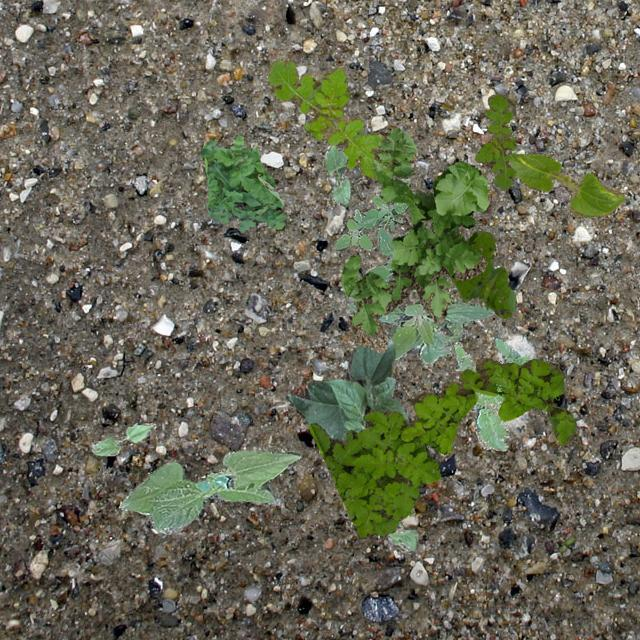crop: (118, 448, 298, 534), (286, 338, 411, 442), (348, 294, 494, 364), (508, 152, 624, 216), (90, 422, 154, 454), (324, 144, 348, 206), (386, 520, 416, 552)
weed: (308, 357, 576, 538), (340, 126, 488, 352), (266, 58, 386, 178), (452, 332, 530, 450), (200, 134, 286, 230), (331, 178, 408, 280), (448, 228, 514, 316), (474, 92, 514, 190)
